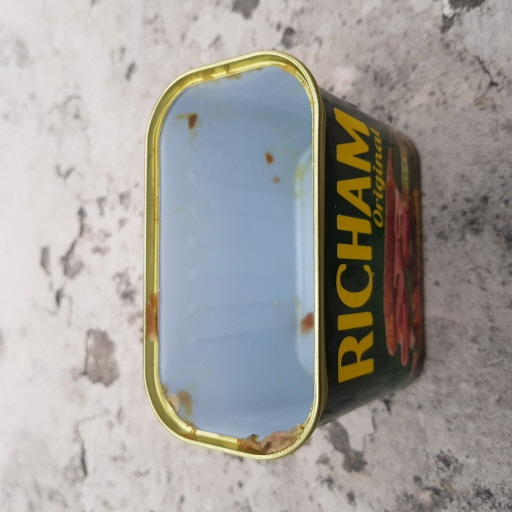Metal_2: (140, 53, 432, 468)
